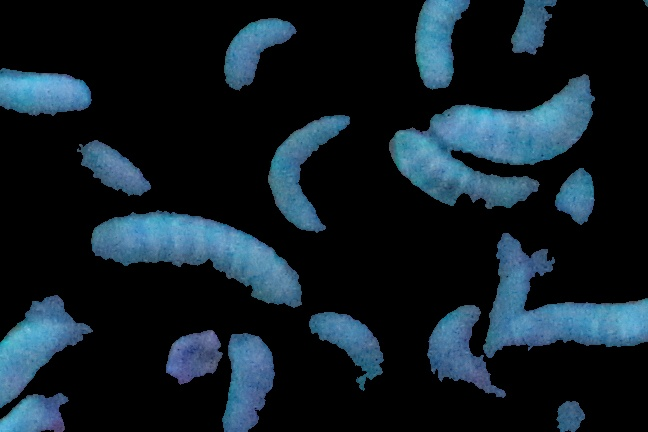larvae: (82, 215, 305, 322), (388, 126, 540, 223), (429, 75, 595, 163), (298, 309, 398, 428), (265, 117, 362, 237), (501, 292, 648, 357), (423, 307, 508, 418), (218, 11, 303, 112), (1, 304, 71, 410), (408, 1, 478, 93), (53, 138, 154, 201), (220, 333, 283, 432), (1, 62, 93, 127), (508, 1, 565, 63)
